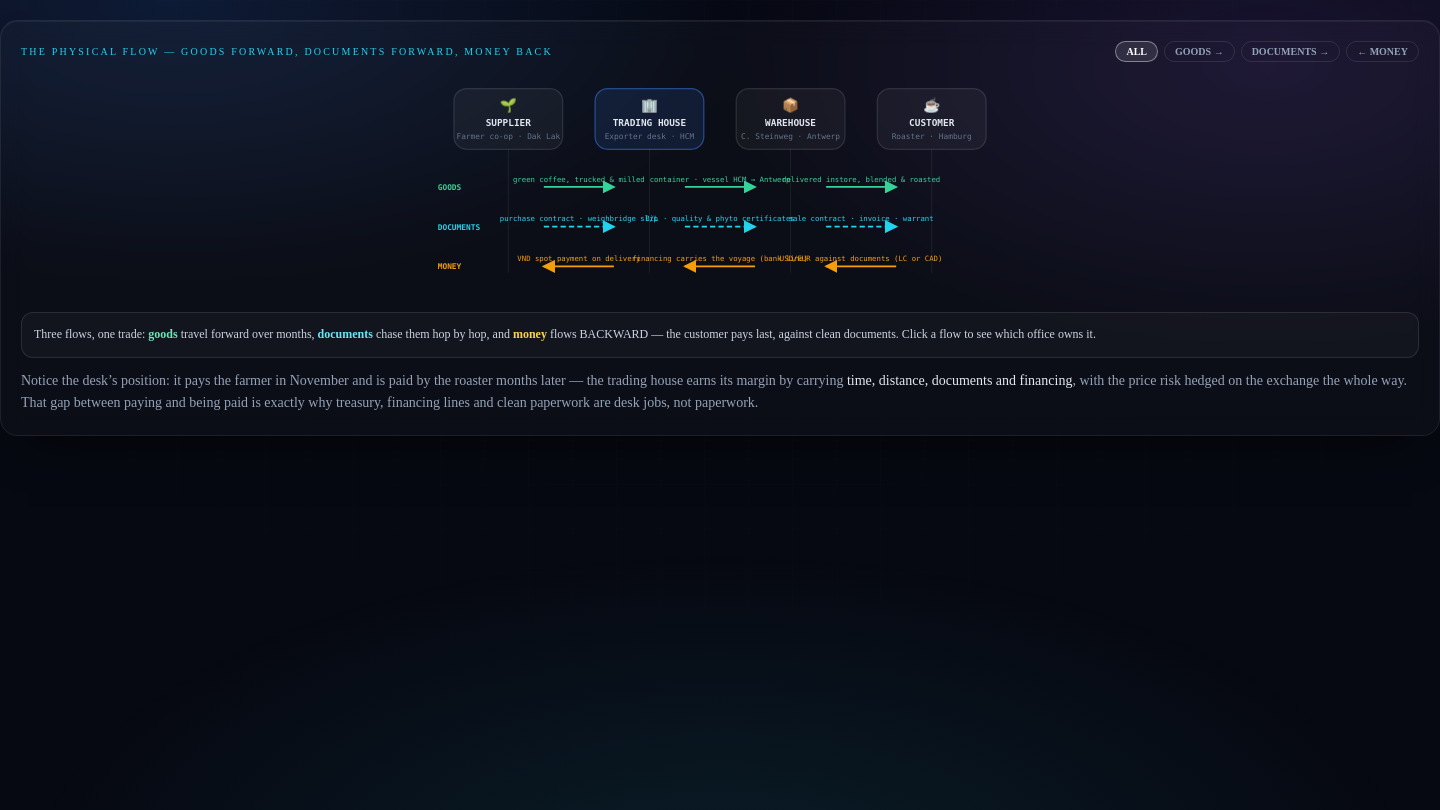
Test: PhysicalFlow: goods forward, documents forward, money back — with owners
// Focusing a flow names the office that owns it
Click the button with aria-label "Show cash flow" at (1383, 52), box [1346,41,1419,62]
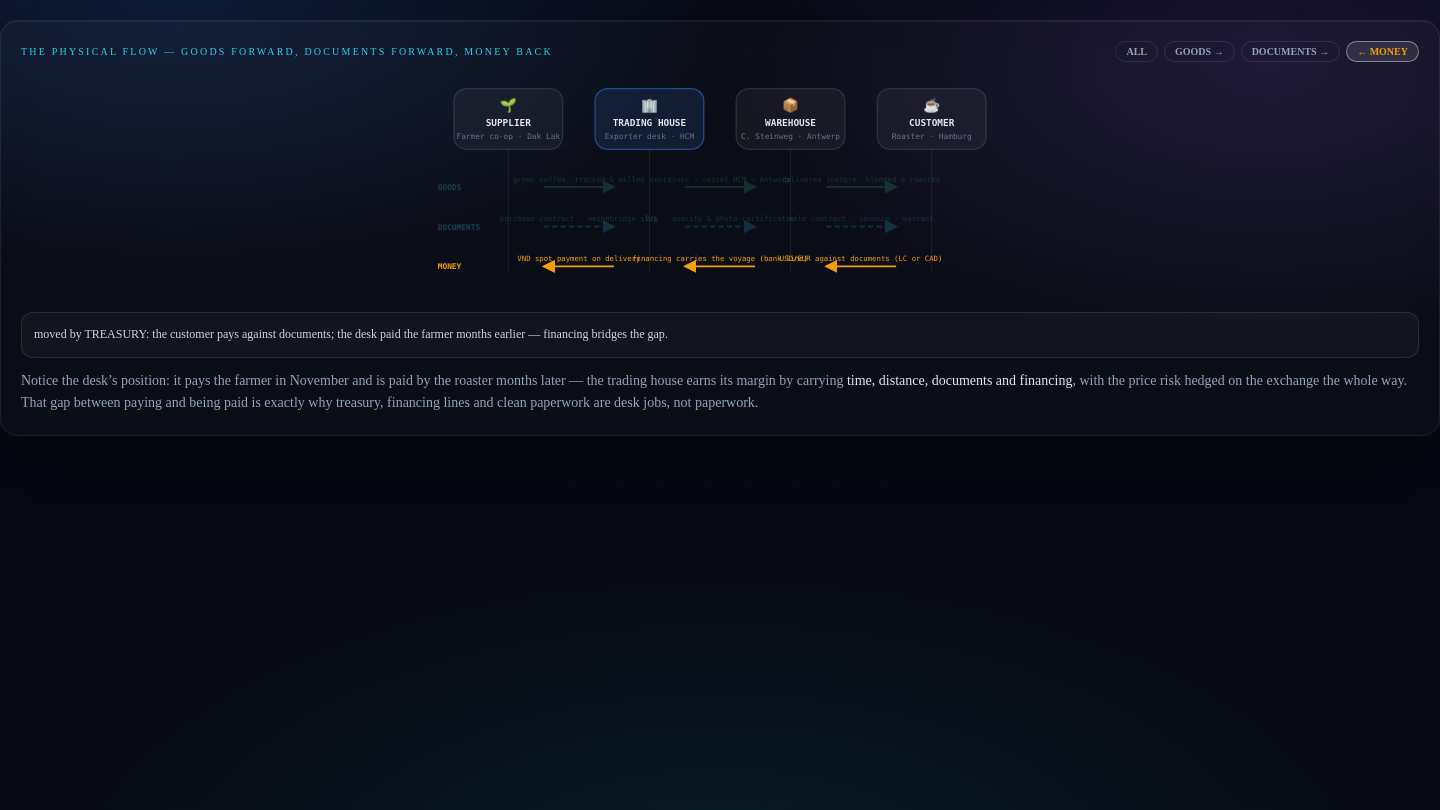
Expected: the text "moved by TREASURY" is shown, [34,327,665,341]
Click the button with aria-label "Show docs flow" at (1290, 52), box [1241,41,1340,62]
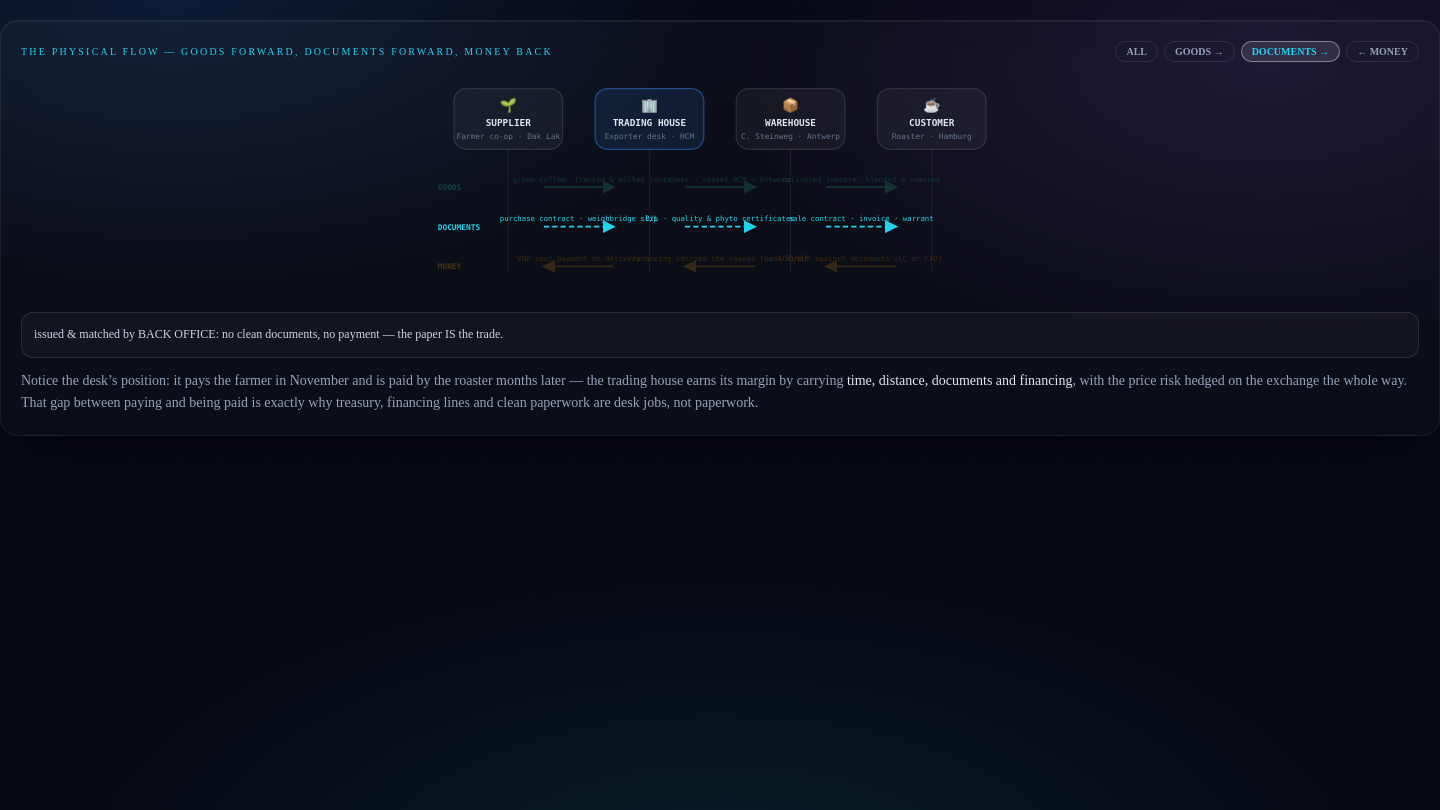
Expected: the text "the paper IS the trade" is shown, [34,327,500,341]
